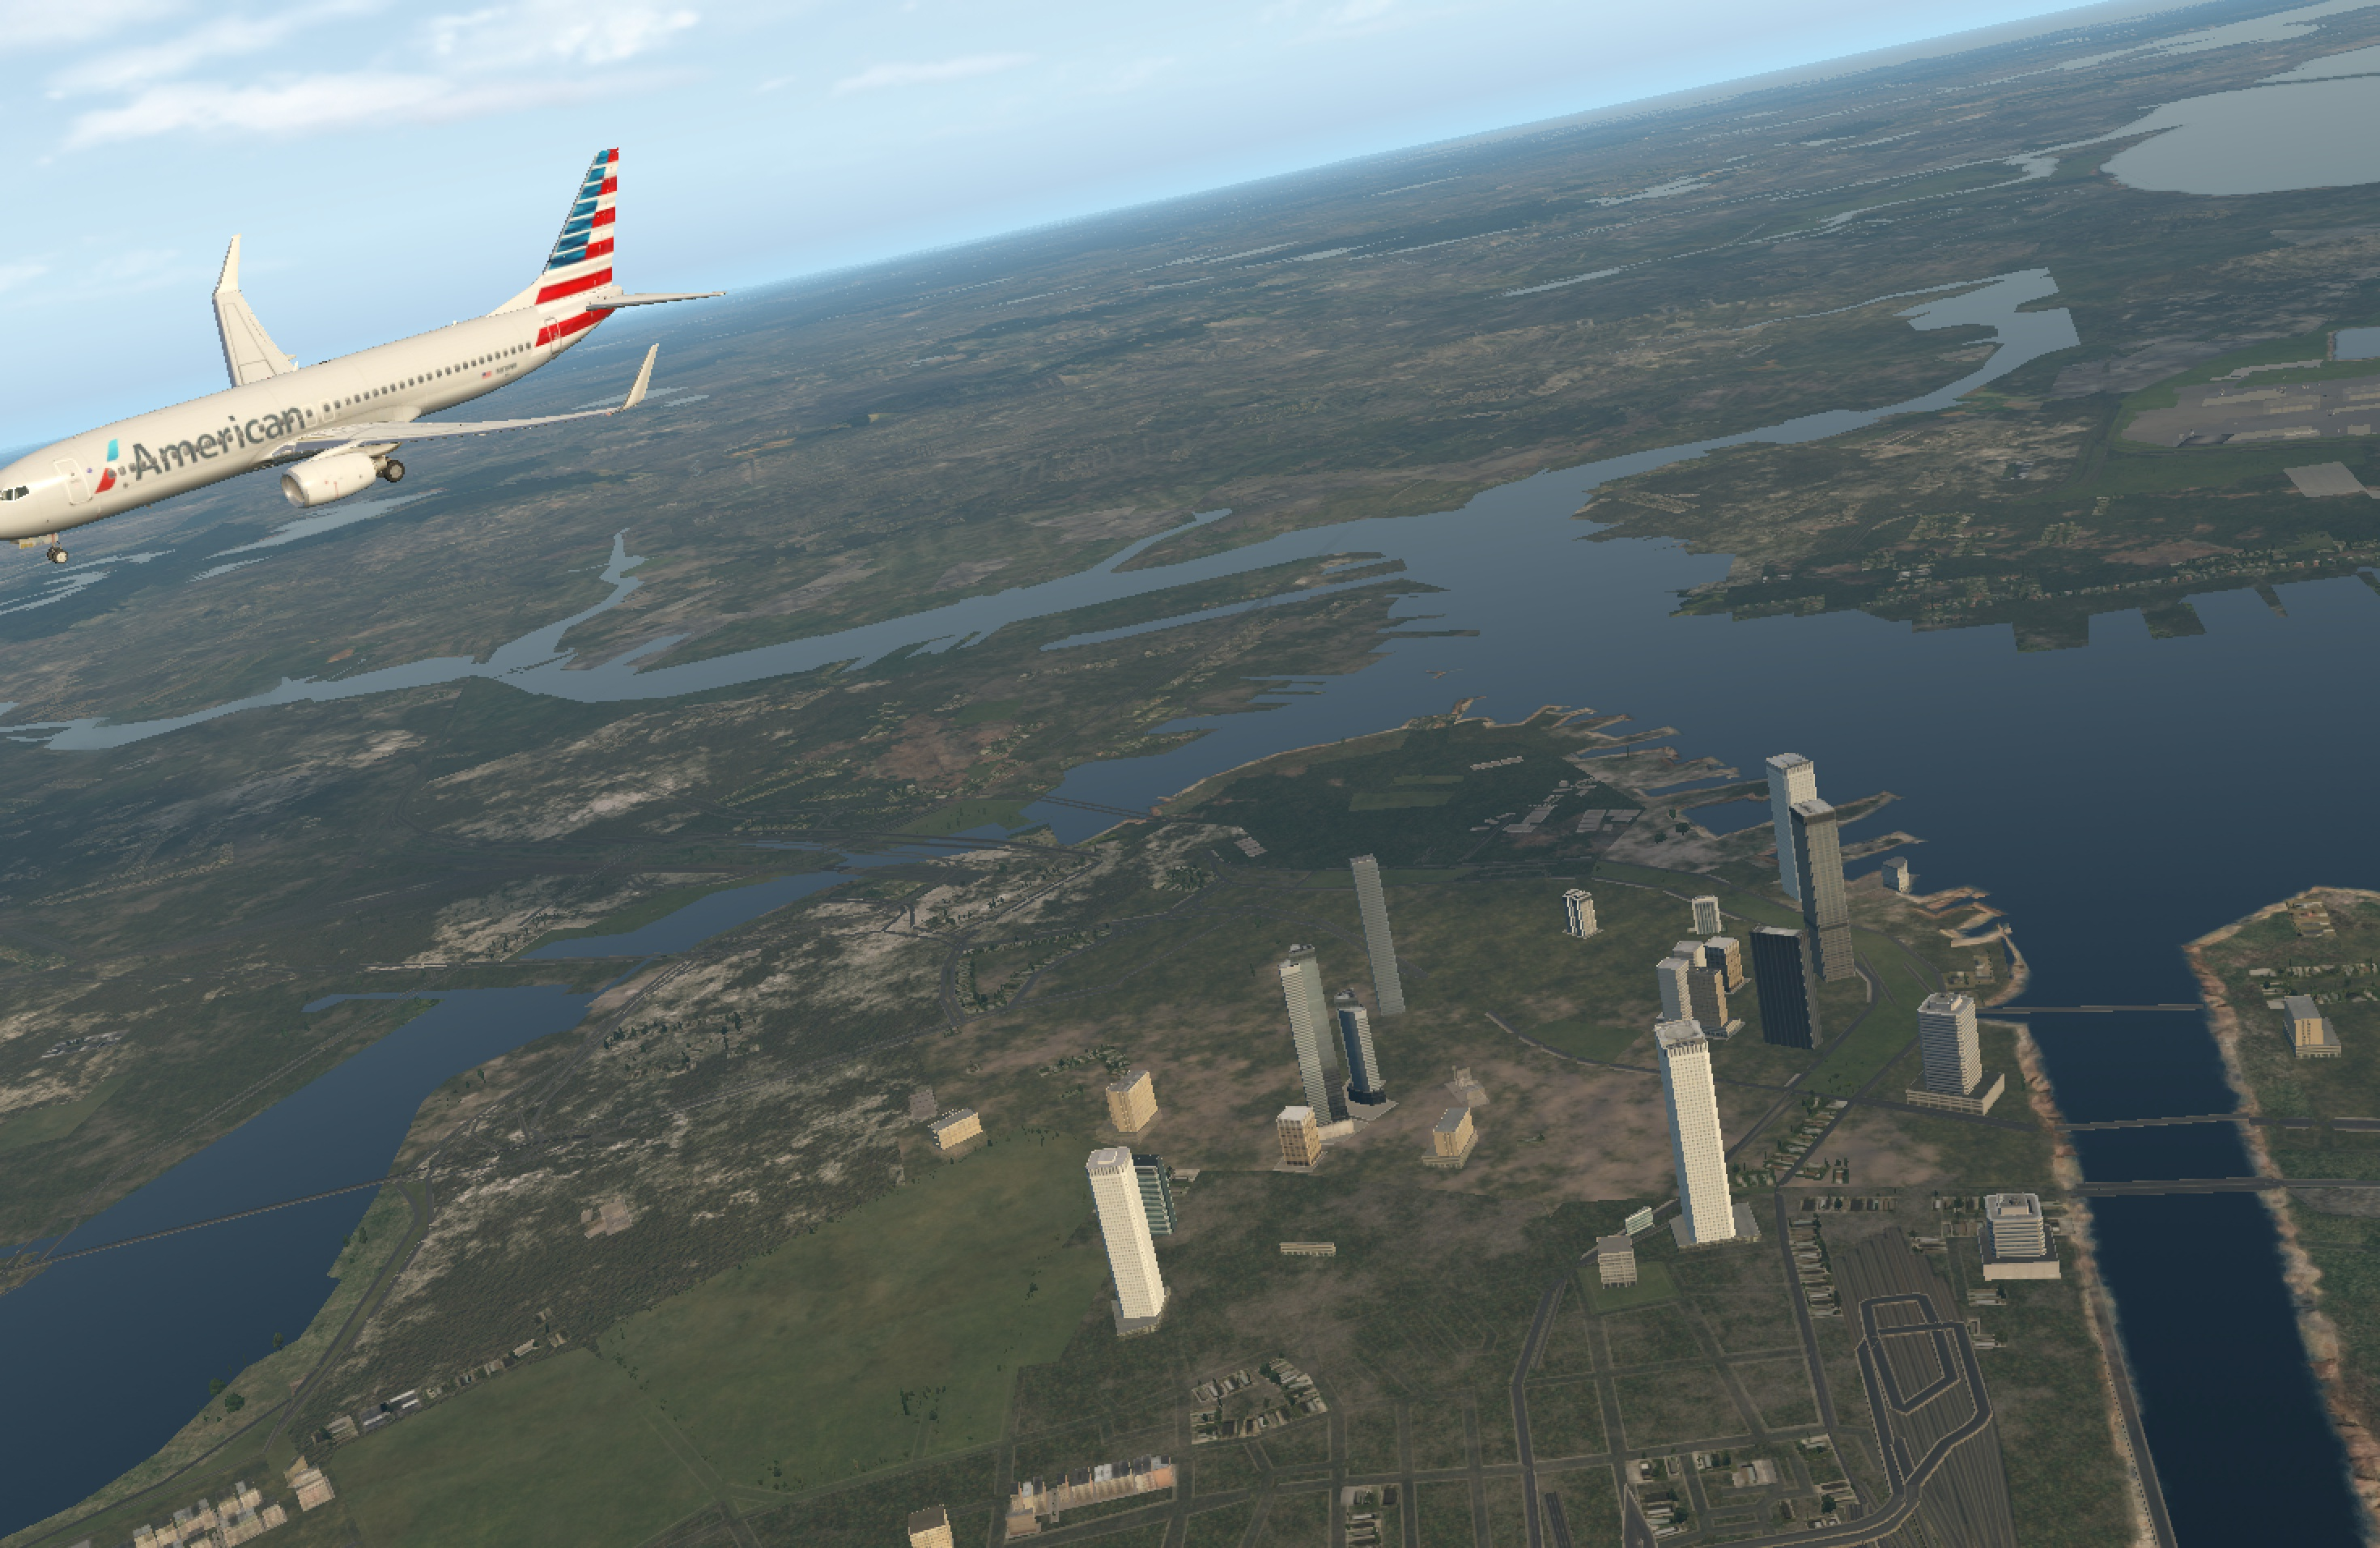aircraft: (0, 285, 677, 554)
